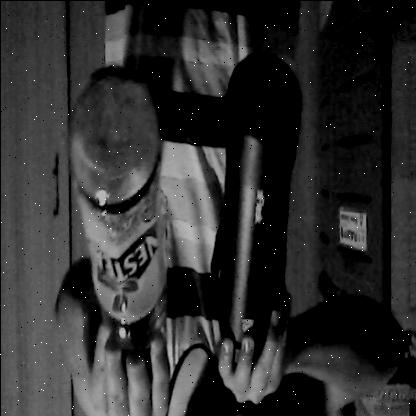Plastic Bottle: (58, 49, 179, 399)
